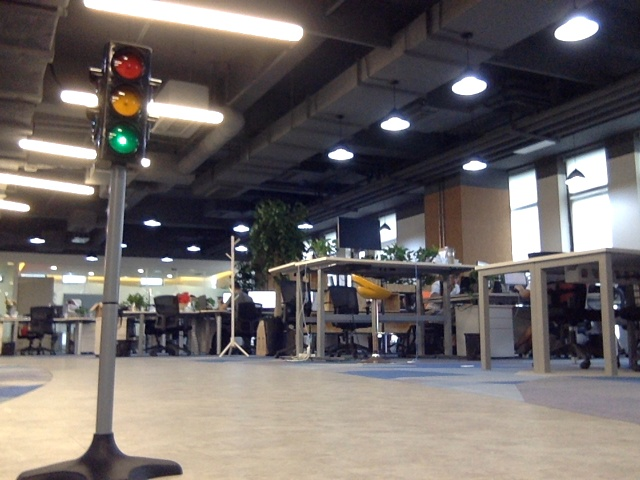green: (105, 52, 141, 160)
